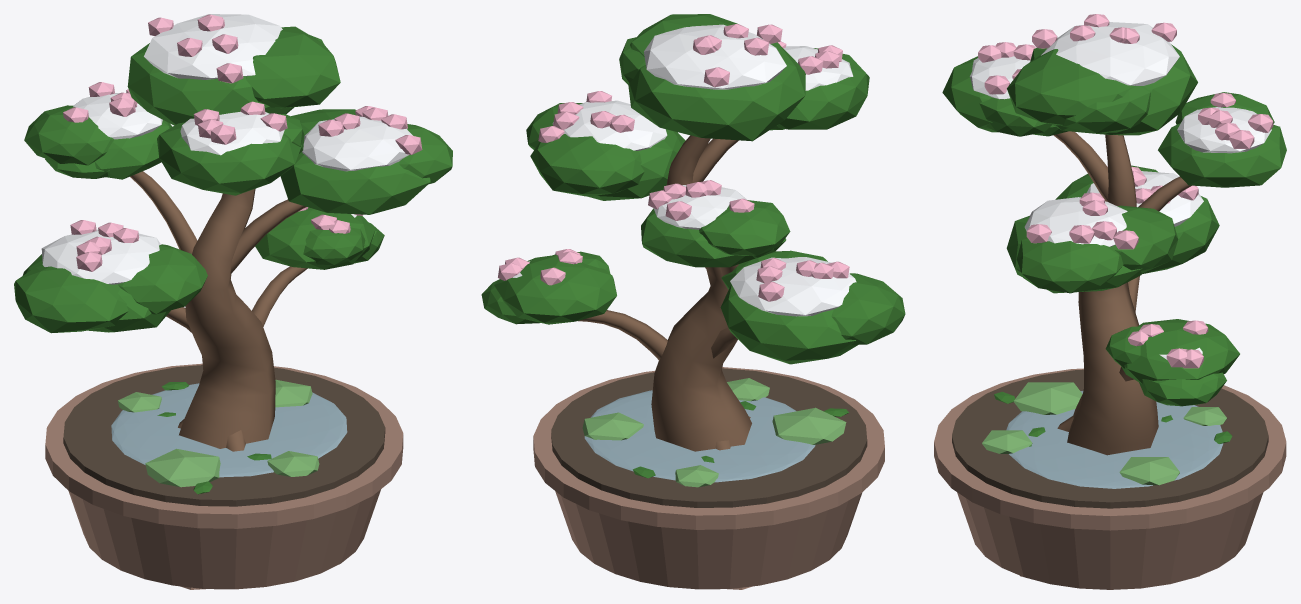
Rendered from bonsai_4_blooming.glb.
3 renders of one model, left to right at view 1: azimuth 30°, elevation 25°; view 2: azimuth 150°, elevation 25°; view 3: azimuth 270°, elevation 25°, orthographic.
Visible parts, largest first — view 1: foliage, pot, trunk, snow, soil, puddle, flowers, moss, fallen; view 2: foliage, pot, snow, soil, trunk, flowers, puddle, moss; view 3: foliage, pot, trunk, soil, snow, flowers, puddle, moss, fallen.
Boxes of the visible parts, x1,y1,x2,y2 form: foliage: [14, 26, 452, 333]; pot: [45, 363, 403, 589]; trunk: [130, 171, 307, 451]; snow: [41, 14, 412, 284]; soil: [63, 365, 385, 506]; puddle: [111, 383, 347, 477]; flowers: [63, 14, 422, 271]; moss: [118, 379, 319, 487]; fallen: [157, 382, 271, 494]; foliage: [481, 14, 905, 364]; pot: [533, 367, 884, 589]; snow: [512, 24, 856, 316]; soil: [551, 368, 867, 507]; trunk: [578, 135, 751, 451]; flowers: [498, 24, 849, 301]; puddle: [584, 390, 815, 482]; moss: [582, 378, 846, 487]; foliage: [942, 44, 1286, 406]; pot: [934, 368, 1286, 589]; trunk: [1053, 131, 1191, 455]; soil: [952, 369, 1268, 508]; snow: [969, 22, 1271, 359]; flowers: [978, 14, 1273, 368]; puddle: [1006, 391, 1223, 488]; moss: [982, 382, 1227, 485]; fallen: [994, 391, 1232, 446].
Size of the model in its own units: 0.2263 by 0.2834 by 0.1783.
